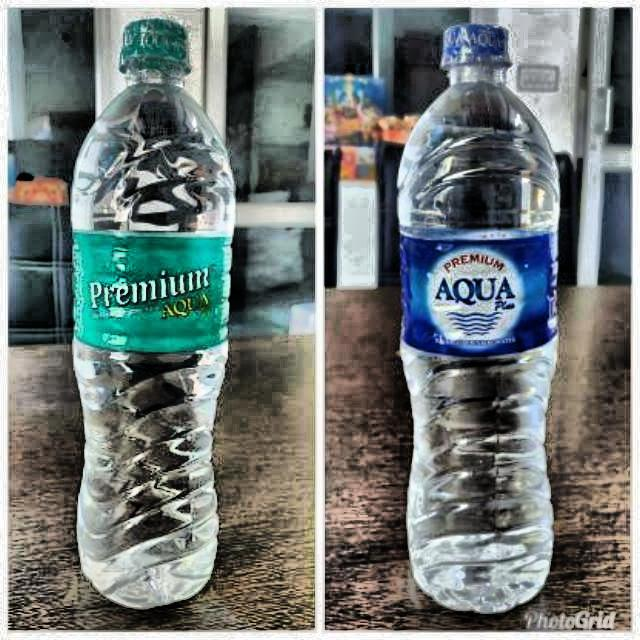Bottles: (64, 16, 244, 614), (392, 20, 564, 618)
